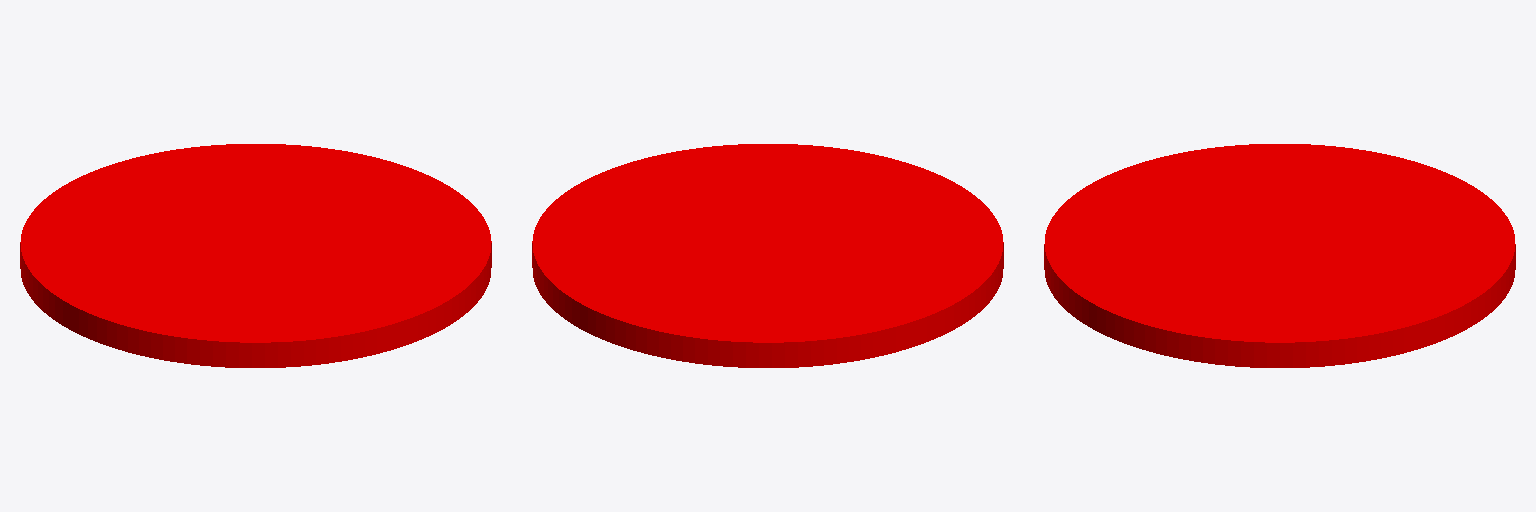
The robot description file, URDF, robot "puck":
<?xml version="1.0"?>
<robot name="puck" xmlns:xacro="http://ros.org/wiki/xacro">

  <link name="puck_link">
    <!-- Visualizzazione -->
    <visual>
      <origin xyz="0 0 0" rpy="0 0 0"/>
      <geometry>
        <mesh filename="package://scene/meshes/airhockey-puck.stl" scale="0.001 0.001 0.001"/>
      </geometry>
      <material name="red">
        <color rgba="1 0 0 1.0"/>
      </material>
    </visual>

    <!-- Collisione -->
    <collision>
      <origin xyz="0 0 0" rpy="0 0 0"/>
      <geometry>
        <mesh filename="package://scene/meshes/airhockey-puck.stl" scale="0.001 0.001 0.001"/>
      </geometry>
    </collision>

    <!-- Inerzia base -->
    <inertial>
      <origin xyz="0 0 0" rpy="0 0 0"/>
      <mass value="0.15"/>
      <inertia ixx="3.718e-05" ixy="0.0" ixz="0.0"
               iyy="3.718e-05" iyz="0.0"
               izz="6.541e-05"/>
    </inertial>
      
  </link> 
  
  <gazebo reference="puck_link">
	<static>true</static>
	<material>Gazebo/Red</material>
	</gazebo> 
  
</robot>

--- What the picture shows (computed from the rendered views, not written in the file) ---
3 views of the same robot in one strip: view 1: azimuth 30°, elevation 25°; view 2: azimuth 150°, elevation 25°; view 3: azimuth 270°, elevation 25° (orthographic).
Robot: puck — 1 links, 0 joints (none); root link puck_link; default pose: every joint at zero.
Visible links, largest first — view 1: puck_link; view 2: puck_link; view 3: puck_link.
Link boxes in pixels (x1,y1,x2,y2): puck_link: [20, 144, 491, 367]; puck_link: [532, 144, 1003, 367]; puck_link: [1044, 144, 1515, 367].
Bounding box of the posed robot: 0.05 × 0.05 × 0.003 m (x, y, z).
Meshes: 1 distinct files referenced, 1 mesh visuals loaded (1 binary STL).